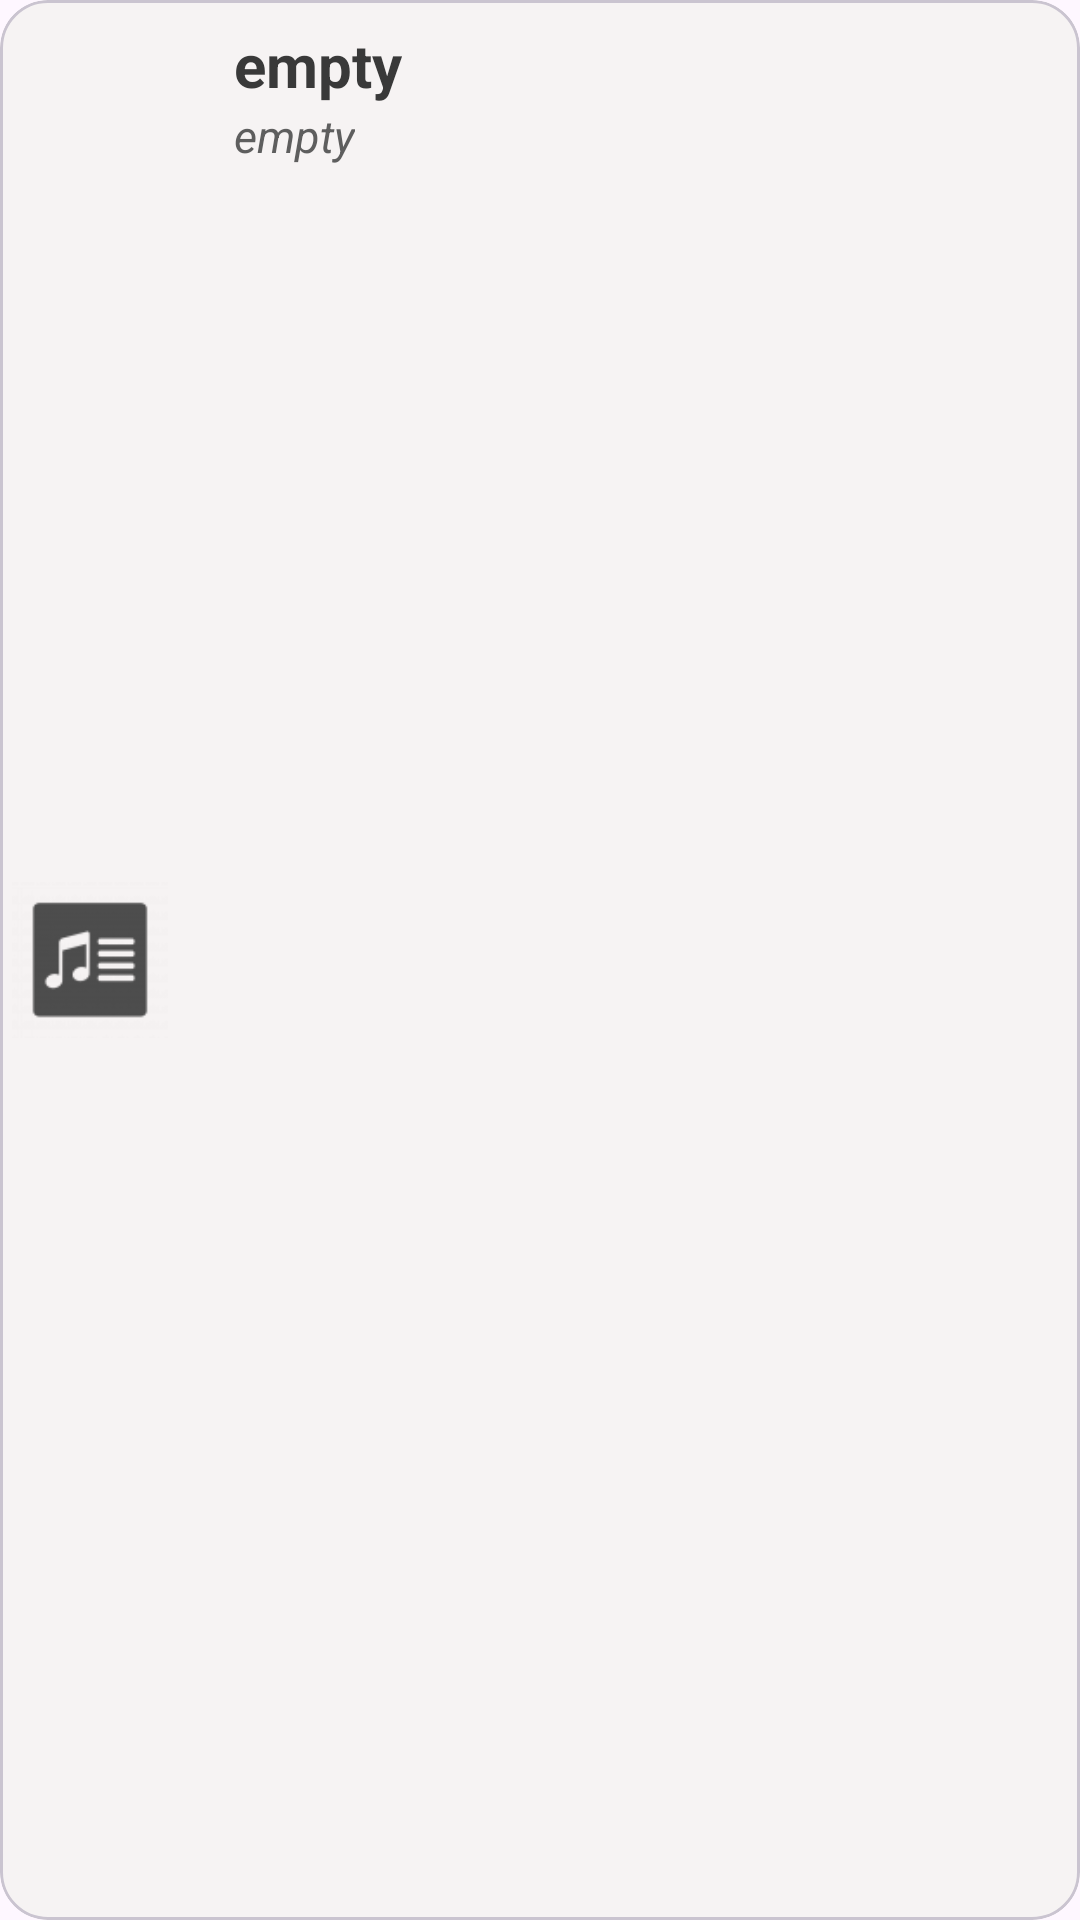

Screen size 1080 × 1920. Icon name, then its center in pixels as point (x, y):
lyrics item pfp: point (90, 960)
